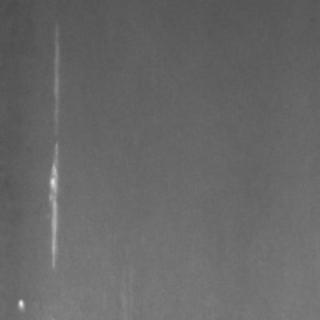scratches: (41, 18, 68, 272), (11, 292, 25, 312)
